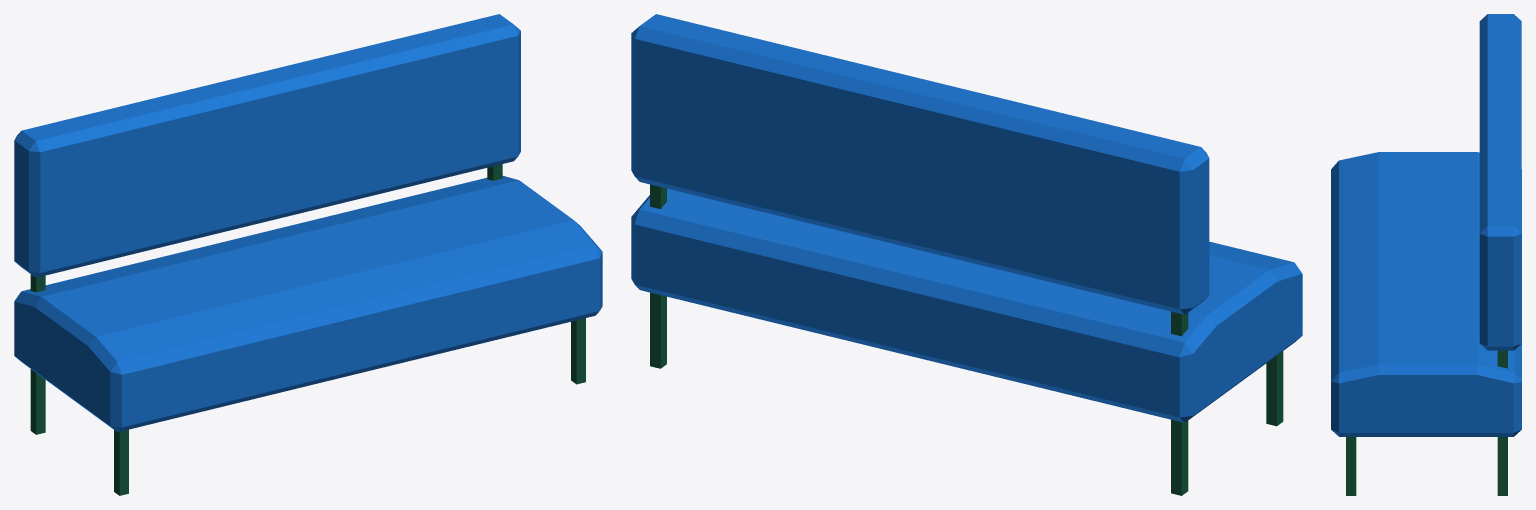
File: T_sofa.fbx
3 renders of one model, left to right at view 1: azimuth 30°, elevation 25°; view 2: azimuth 150°, elevation 25°; view 3: azimuth 270°, elevation 25°, orthographic. The views are drawn at different scales.
Parts seen in each view (by area): view 1: sofa; view 2: sofa; view 3: sofa.
Boxes of the visible parts, bbox=[...] form: sofa: bbox=[14, 14, 602, 495]; sofa: bbox=[631, 14, 1302, 495]; sofa: bbox=[1331, 14, 1521, 495].
Size of the model in its own units: 150 by 87.1 by 55.33.
